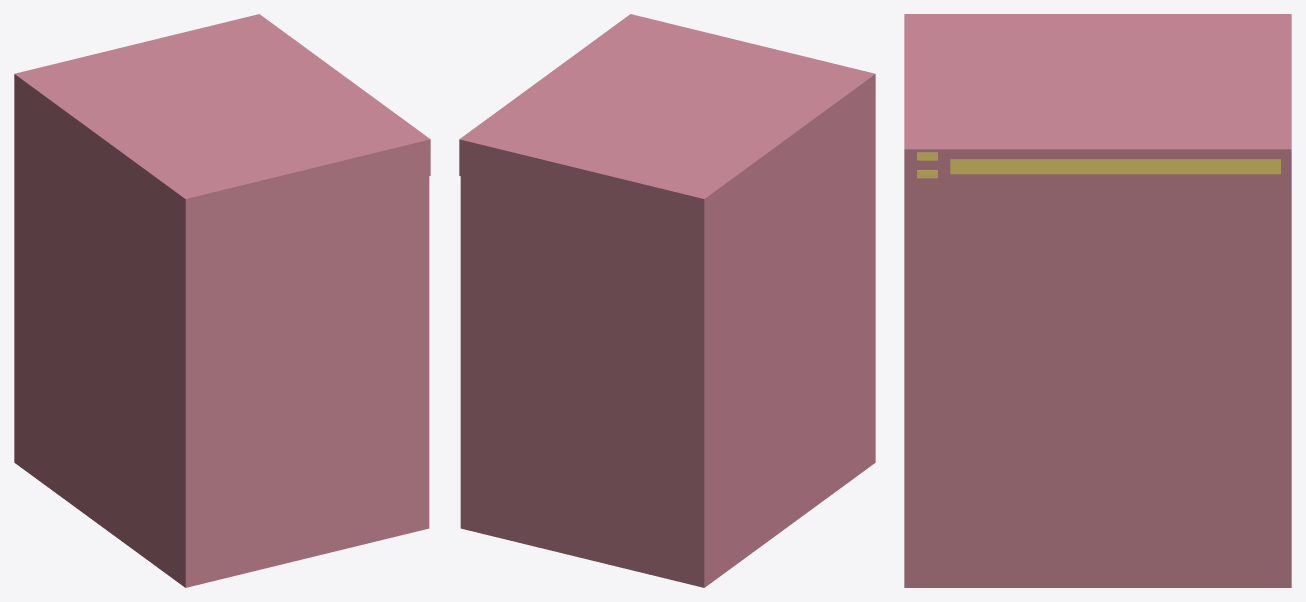
The model's file is Laundry_dryer.fbx.
The picture shows the model from 3 angles, left to right: view 1: azimuth 30°, elevation 25°; view 2: azimuth 150°, elevation 25°; view 3: azimuth 270°, elevation 25°; orthographic projection. The views are drawn at different scales.
Parts seen in each view (by area): view 1: Laundry_dryer; view 2: Laundry_dryer; view 3: Laundry_dryer.
Boxes of the visible parts, bbox=[...] form: Laundry_dryer: bbox=[14, 14, 430, 587]; Laundry_dryer: bbox=[459, 14, 875, 587]; Laundry_dryer: bbox=[904, 14, 1291, 587].
Bounding box in the file's own units: 92.72 × 140 × 112.
